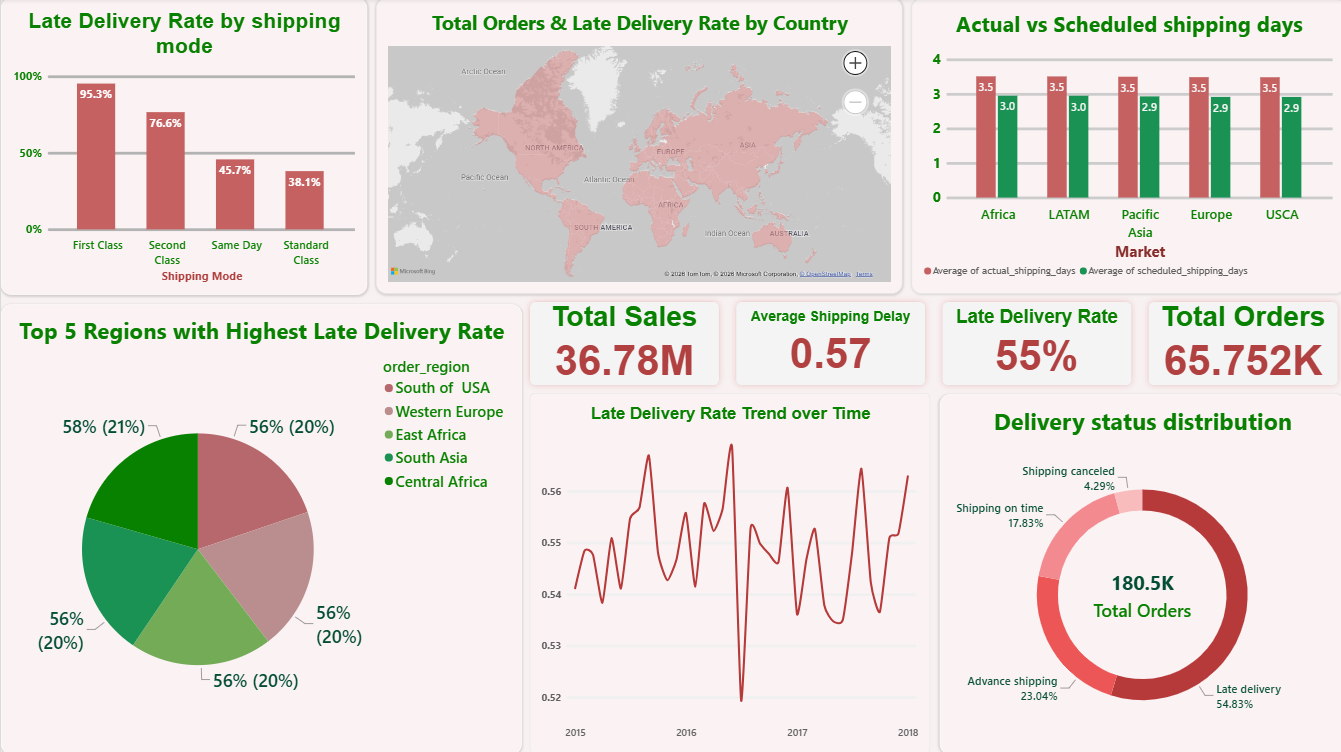

The dashboard page shown, as its layout file describes it:
{"tool":"powerbi","page":{"name":"Page 1","canvas":[1920,1080],"ordinal":0},"visuals":[{"type":"cardVisual","fields":{"Data":["Sum(cleaned_supply_chain_data.sales)"]},"box":[743.9,423.5,292.2,141.6],"z":0},{"type":"cardVisual","fields":{"Data":["Count(cleaned_supply_chain_data.order_id)"]},"box":[1627.8,423.5,292.2,141.6],"z":1000},{"type":"cardVisual","fields":{"Data":["cleaned_supply_chain_data.Late Delivery Rate"]},"box":[1333.2,423.5,292.2,141.6],"z":2000},{"type":"cardVisual","fields":{"Data":["Avg(cleaned_supply_chain_data.delivery_delay_days)"]},"box":[1038.6,423.5,292.2,141.6],"z":3000},{"type":"columnChart","title":"Late Delivery Rate by shipping mode","fields":{"Category":["cleaned_supply_chain_data.shipping_mode"],"Y":["cleaned_supply_chain_data.Late Delivery Rate"]},"box":[0,0,522.8,423.9],"z":4000},{"type":"donutChart","title":"Delivery status distribution","fields":{"Category":["cleaned_supply_chain_data.delivery_status"],"Y":["CountNonNull(cleaned_supply_chain_data.order_id)"]},"box":[1340.9,565.7,578.9,514.6],"z":5000},{"type":"filledMap","title":"Total Orders & Late Delivery Rate by Country","fields":{"Category":["cleaned_supply_chain_data.order_country"]},"box":[536,0,752.1,422.2],"z":6000},{"type":"clusteredColumnChart","title":"Actual vs Scheduled shipping days","fields":{"Category":["cleaned_supply_chain_data.market"],"Y":["Avg(cleaned_supply_chain_data.actual_shipping_days)","Avg(cleaned_supply_chain_data.scheduled_shipping_days)"]},"box":[1299.6,0,620.8,422.9],"z":7000},{"type":"lineChart","title":"Late Delivery Rate Trend over Time","fields":{"Category":["cleaned_supply_chain_data.order_date.Variation.Date Hierarchy.Year","cleaned_supply_chain_data.order_date.Variation.Date Hierarchy.Month"],"Y":["Avg(cleaned_supply_chain_data.is_late)"]},"box":[755.4,564.1,572.3,516.3],"z":8000},{"type":"pieChart","title":"Top 5 Regions with Highest Late Delivery Rate","fields":{"Category":["cleaned_supply_chain_data.order_region"],"Y":["cleaned_supply_chain_data.Late Delivery Rate"]},"box":[0,437.5,743.9,643.3],"z":9000}]}

Visuals, with their boxes in screenshot pixels (x1, y1, x2, y2), scaled from the page's 1920x1080 canvas onto the 1341x752 screenshot:
cardVisual - Sum(cleaned_supply_chain_data.sales): l=520, t=295, r=724, b=393
cardVisual - Count(cleaned_supply_chain_data.order_id): l=1137, t=295, r=1340, b=393
cardVisual - cleaned_supply_chain_data.Late Delivery Rate: l=931, t=295, r=1135, b=393
cardVisual - Avg(cleaned_supply_chain_data.delivery_delay_days): l=725, t=295, r=929, b=393
"Late Delivery Rate by shipping mode" columnChart: l=0, t=0, r=365, b=295
"Delivery status distribution" donutChart: l=937, t=394, r=1340, b=751
"Total Orders & Late Delivery Rate by Country" filledMap: l=374, t=0, r=900, b=294
"Actual vs Scheduled shipping days" clusteredColumnChart: l=908, t=0, r=1340, b=294
"Late Delivery Rate Trend over Time" lineChart: l=528, t=393, r=927, b=751
"Top 5 Regions with Highest Late Delivery Rate" pieChart: l=0, t=305, r=520, b=751
